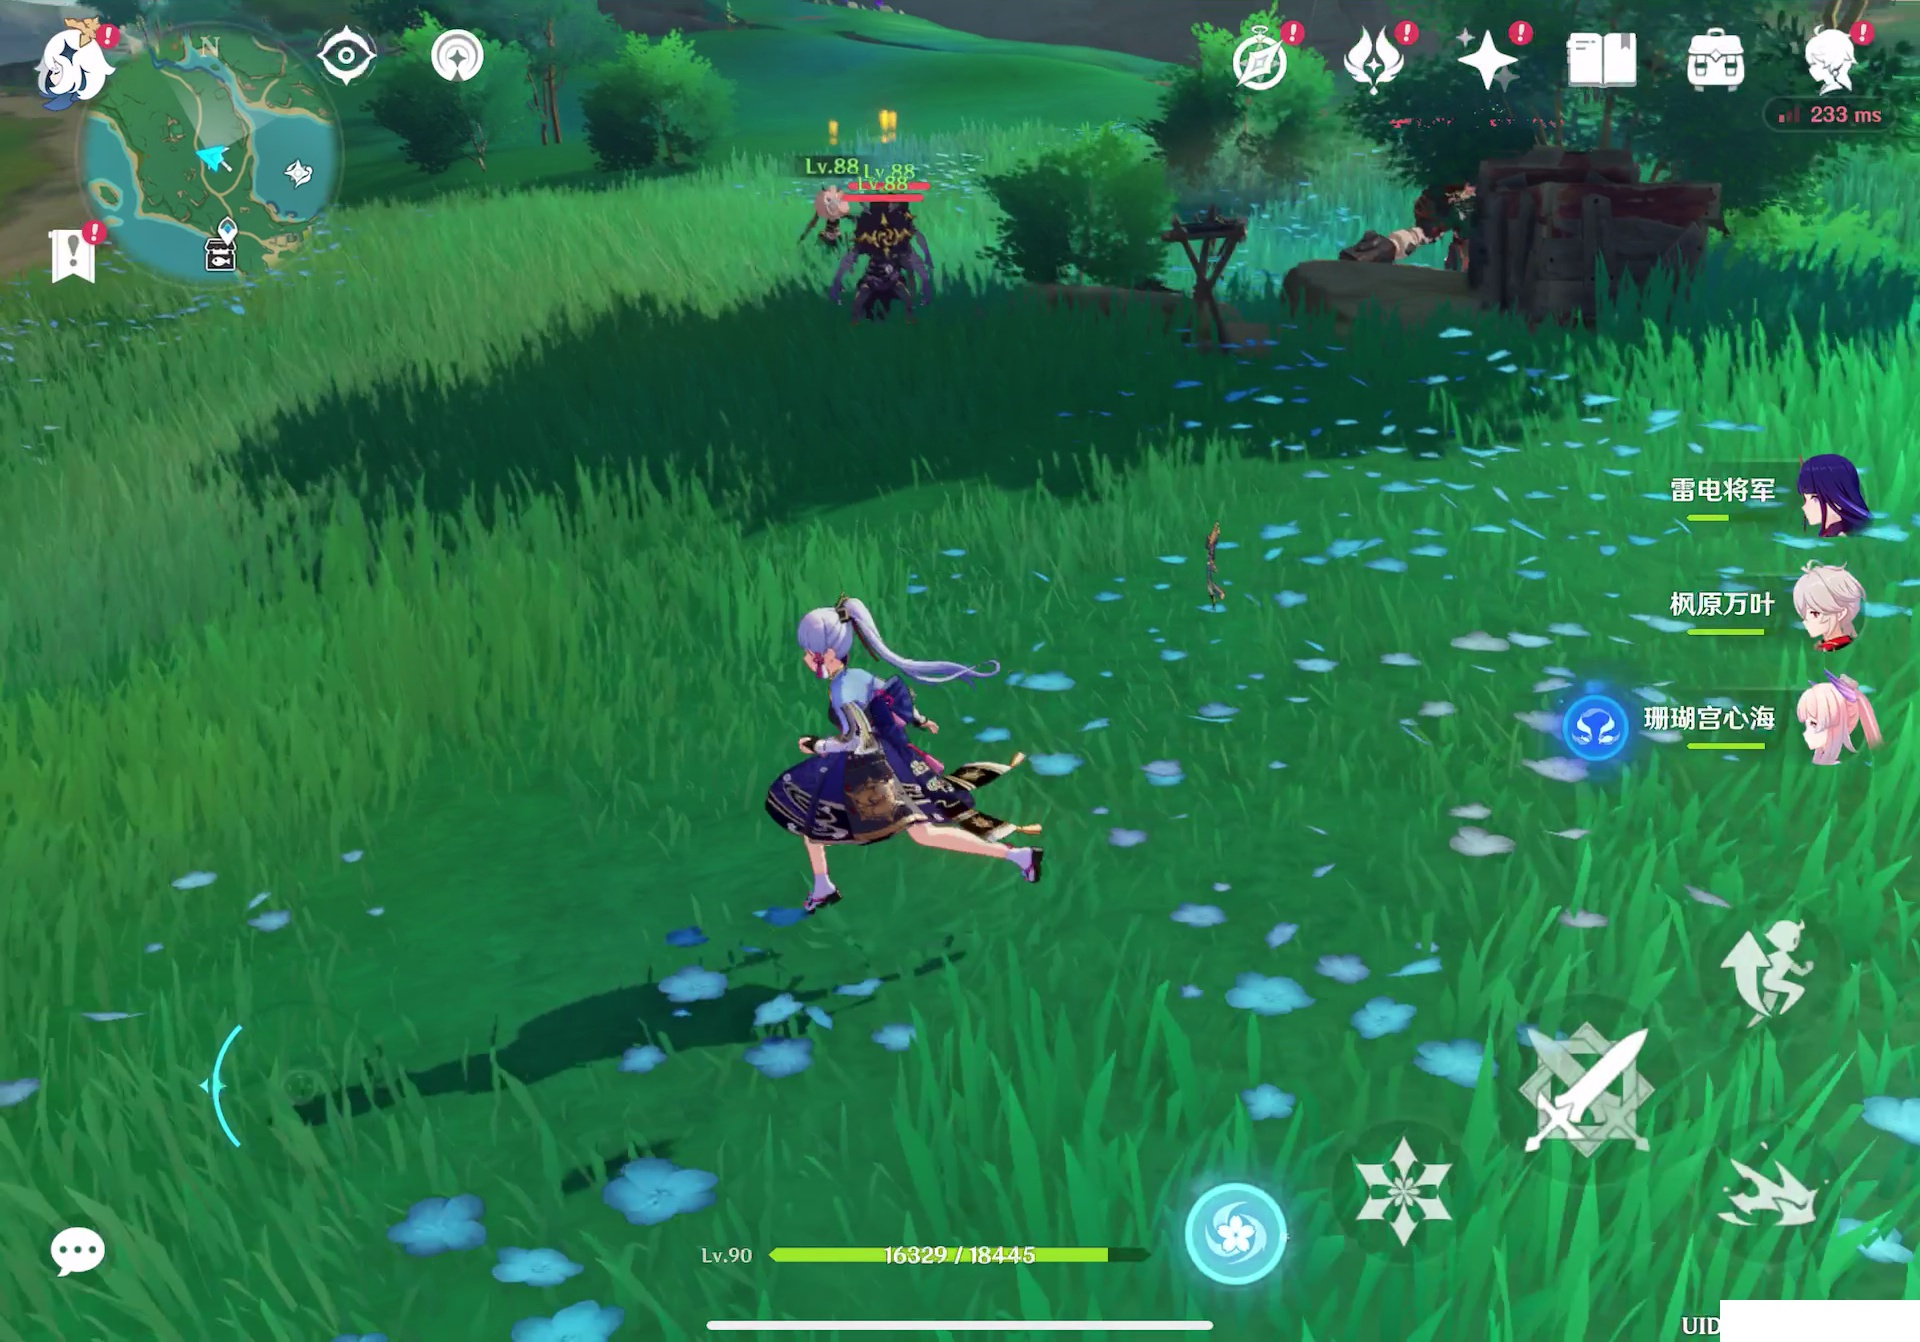丘丘人: (843, 214, 942, 325), (810, 187, 853, 249)
神里绫龟: (746, 586, 1021, 915)
